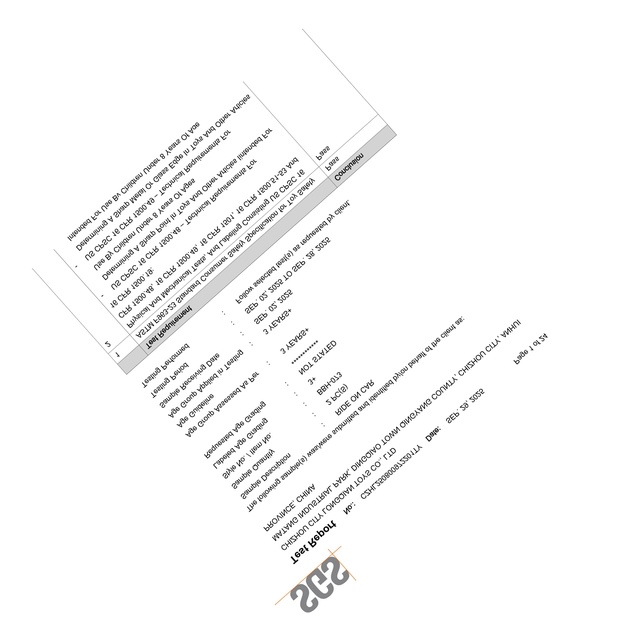sgs: (288, 555, 350, 612)
